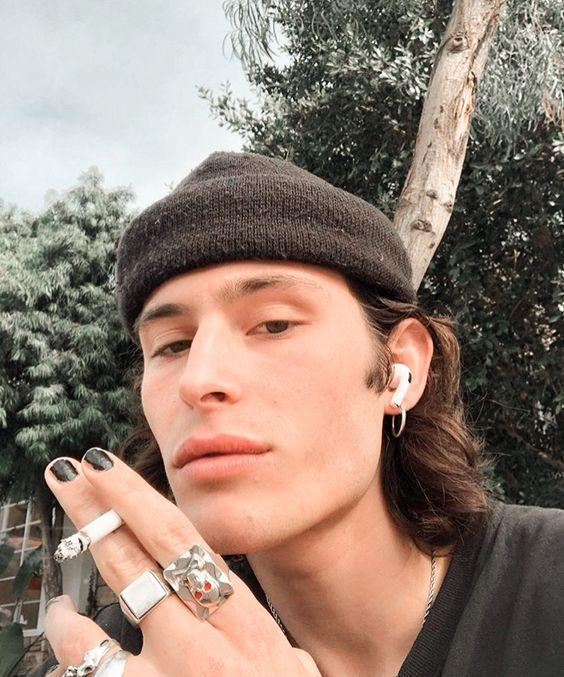cigarette: (53, 508, 126, 564)
